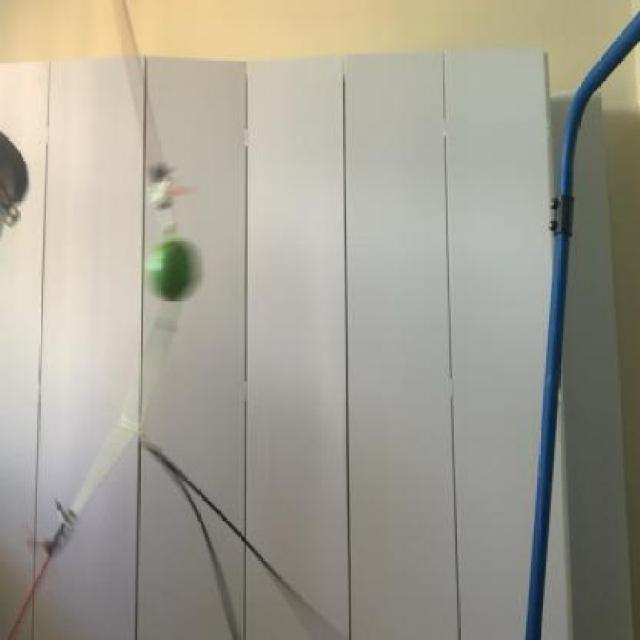baseball: (141, 233, 202, 302)
